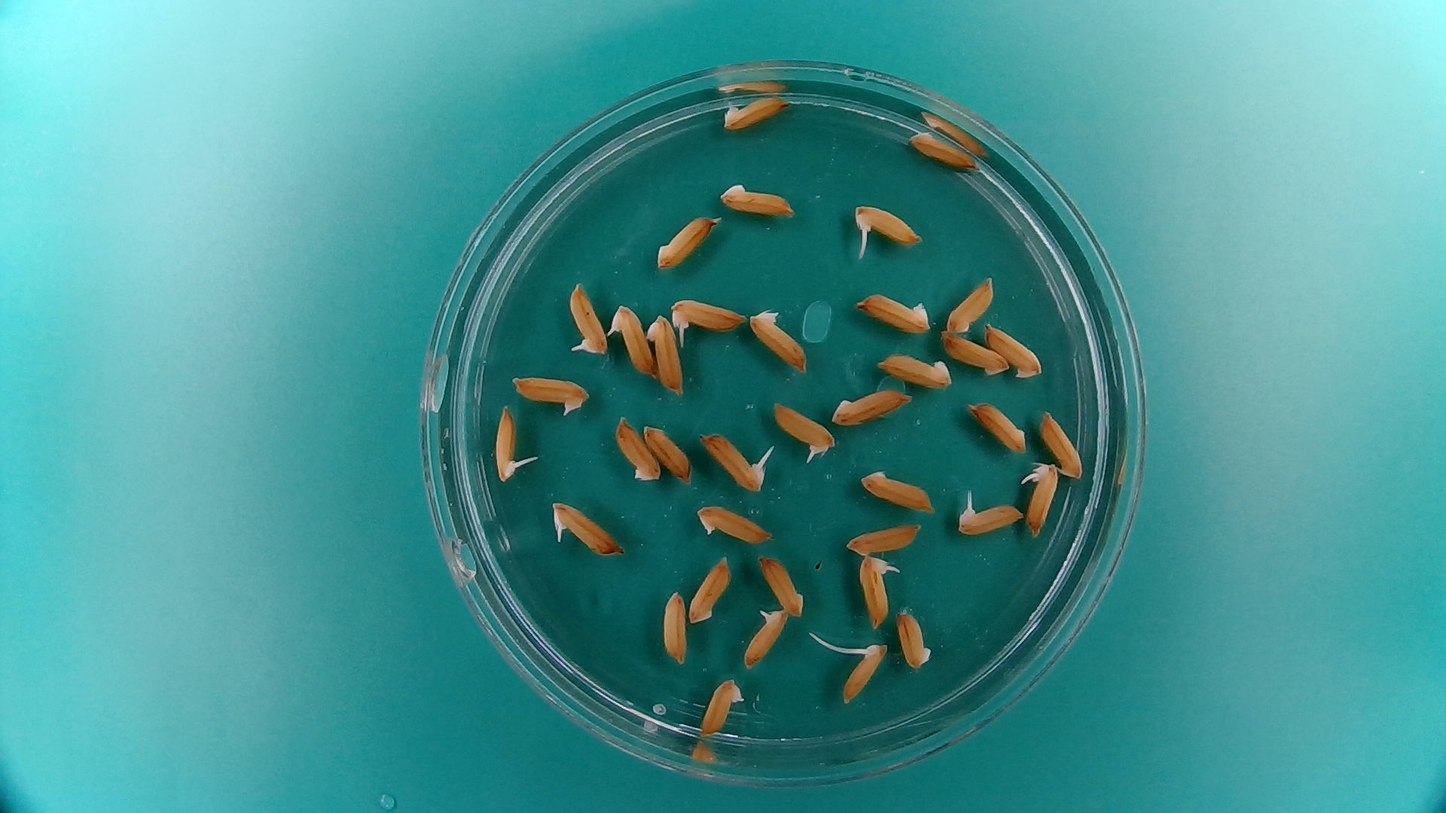no: (749, 309, 810, 377), (653, 212, 720, 270), (852, 288, 933, 335), (611, 412, 663, 484), (828, 386, 914, 429), (694, 501, 776, 545), (984, 321, 1045, 380), (963, 400, 1028, 455), (687, 551, 734, 627), (1039, 406, 1087, 480), (716, 176, 798, 219), (644, 312, 685, 398), (872, 349, 954, 390), (938, 333, 1011, 379), (857, 468, 934, 511), (758, 551, 807, 618), (944, 273, 995, 336), (643, 424, 693, 485), (697, 675, 746, 737), (843, 521, 923, 558), (905, 129, 979, 169), (894, 607, 935, 671), (659, 586, 688, 666)
yes: (769, 399, 839, 464), (549, 501, 627, 557), (705, 433, 771, 492), (509, 370, 593, 416), (608, 301, 657, 378), (856, 553, 902, 632), (566, 279, 609, 360), (741, 603, 791, 669), (1020, 461, 1060, 538), (856, 200, 920, 247), (667, 298, 748, 334), (718, 94, 791, 132), (956, 501, 1026, 537), (840, 645, 885, 700), (493, 402, 523, 480)
